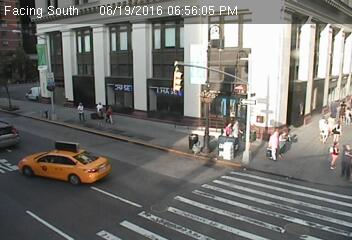neg: (44, 149, 83, 200), (105, 163, 133, 200), (178, 132, 201, 163), (242, 192, 265, 222), (153, 172, 172, 197), (182, 172, 199, 194), (39, 103, 51, 120)
pos: (263, 128, 287, 161), (333, 142, 351, 181), (322, 139, 344, 168), (329, 117, 350, 145), (312, 113, 331, 138), (73, 102, 89, 124), (104, 105, 118, 123), (93, 100, 106, 118)
